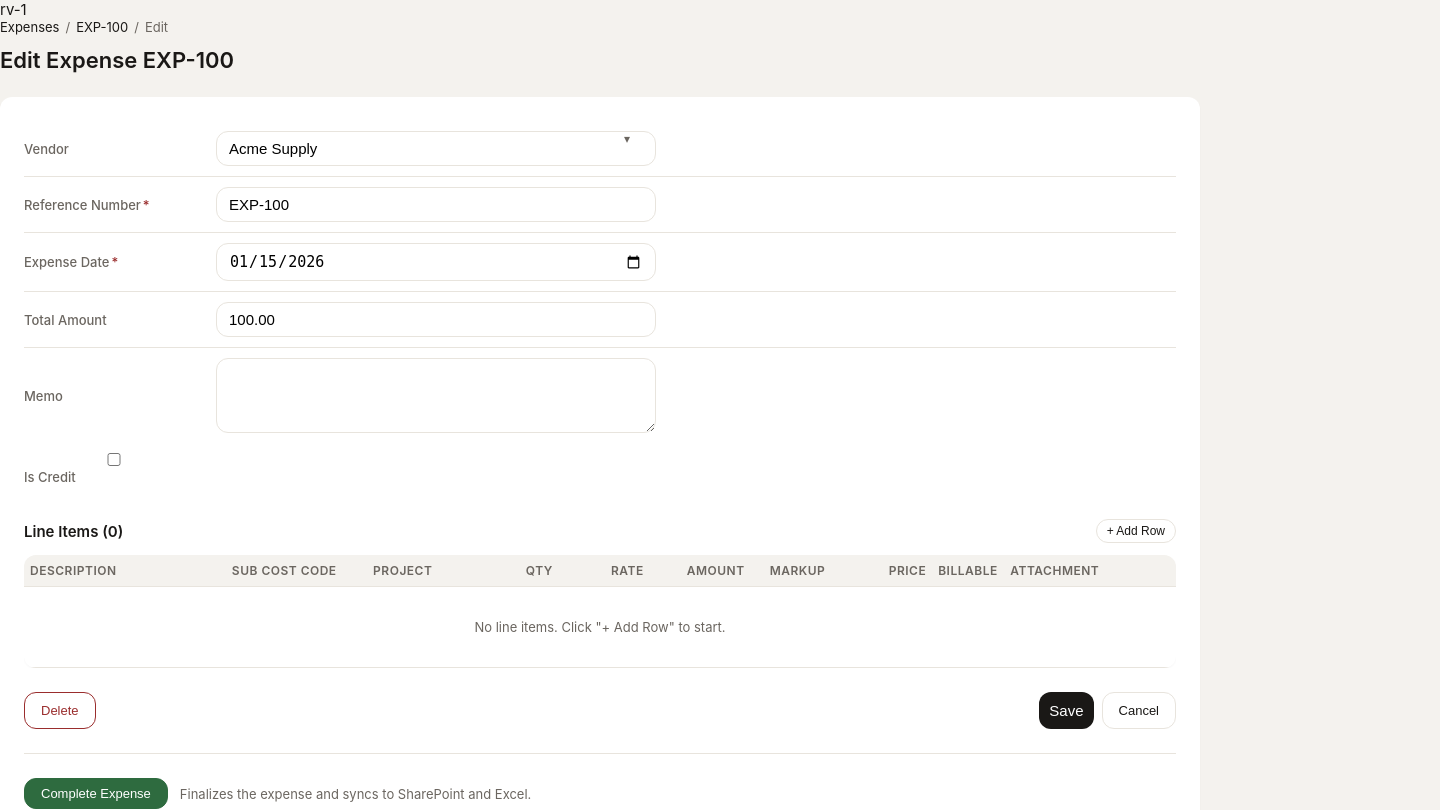
Test: ExpenseEdit line-item row identity (stable uid keys) › created-in-session saved line keeps its DOM node across a subsequent same-row refetch
Click the button "+ Add Row".
click(1136, 531)  # box x1=1096 y1=519 x2=1176 y2=543
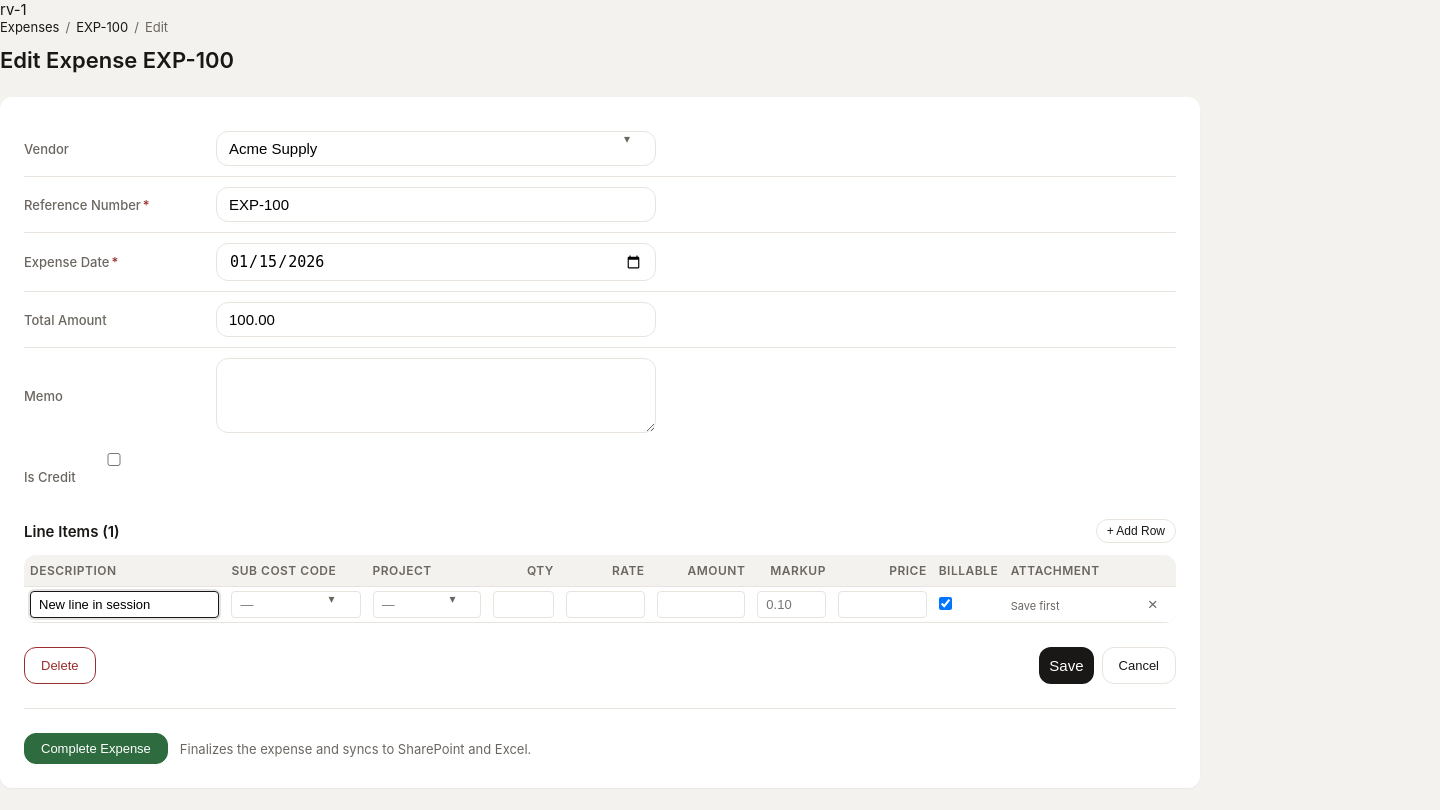
Click the button "Save".
click(1066, 666)  # box x1=1039 y1=647 x2=1094 y2=684
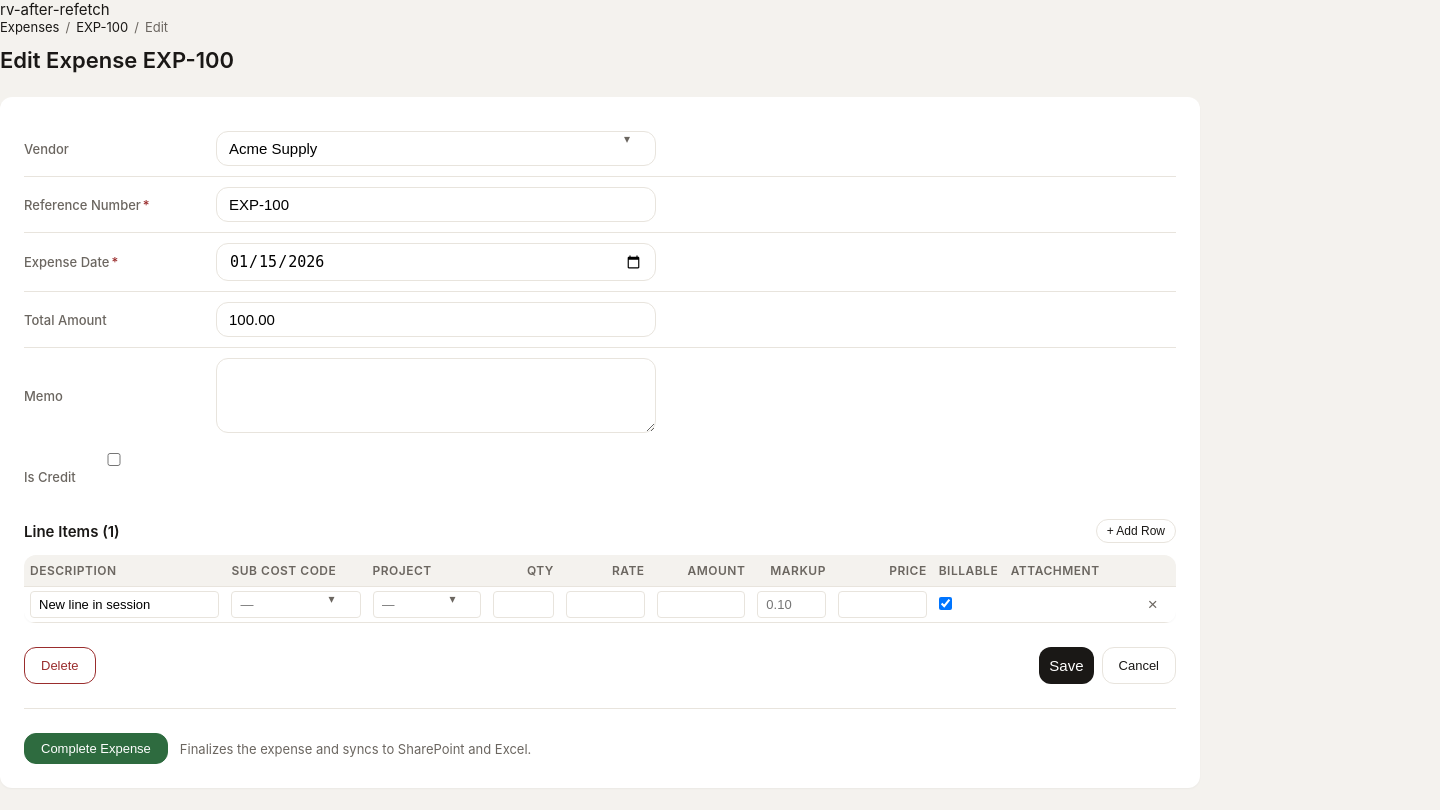
Result: the text "rv-after-refetch" is shown at x1=0 y1=0 x2=110 y2=19
